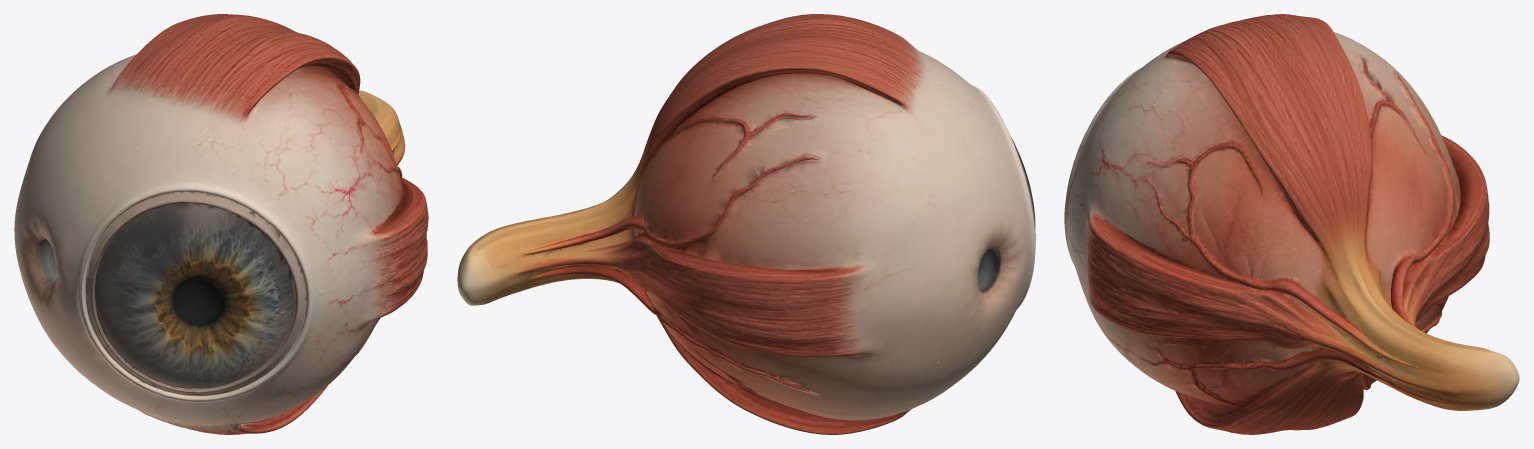
The model's file is eyeball.glb.
3 renders of one model, left to right at view 1: azimuth 30°, elevation 25°; view 2: azimuth 150°, elevation 25°; view 3: azimuth 270°, elevation 25°, orthographic.
Visible parts, largest first — view 1: tripo_node_ebf243bf-d3b6-4331-9960-3b03130a2b84; view 2: tripo_node_ebf243bf-d3b6-4331-9960-3b03130a2b84; view 3: tripo_node_ebf243bf-d3b6-4331-9960-3b03130a2b84.
Part boxes in pixels (<box>): tripo_node_ebf243bf-d3b6-4331-9960-3b03130a2b84: <box>14,14,428,434</box>; tripo_node_ebf243bf-d3b6-4331-9960-3b03130a2b84: <box>457,14,1035,434</box>; tripo_node_ebf243bf-d3b6-4331-9960-3b03130a2b84: <box>1064,14,1519,434</box>.
Size of the model in its own units: 32086 by 26365 by 27948.
1 material, 1 textured.
